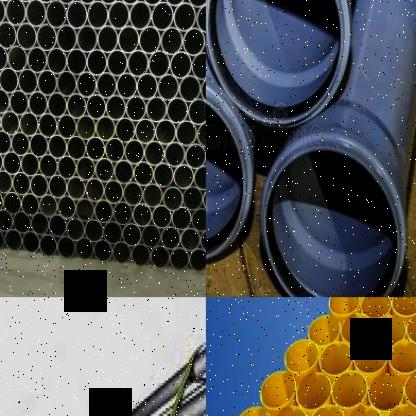pipe: (260, 135, 405, 297), (205, 0, 349, 126), (206, 83, 252, 263), (260, 372, 296, 410), (368, 373, 404, 410), (332, 370, 367, 408), (296, 372, 331, 410), (319, 342, 354, 376), (285, 338, 318, 373), (354, 340, 388, 373), (373, 316, 407, 348), (308, 315, 341, 346), (340, 314, 374, 344), (388, 340, 416, 372), (151, 1, 174, 31), (182, 27, 205, 56), (173, 2, 196, 31), (117, 25, 140, 54), (129, 0, 151, 30), (160, 27, 183, 55), (138, 26, 161, 54), (360, 297, 392, 317), (66, 0, 88, 29), (76, 24, 98, 53), (178, 75, 201, 102), (157, 73, 179, 101), (108, 1, 130, 29), (136, 72, 158, 100), (87, 0, 108, 29), (97, 24, 118, 53), (328, 297, 360, 316), (183, 143, 206, 169), (166, 97, 188, 124), (116, 72, 138, 99), (148, 50, 170, 77), (170, 51, 192, 78), (57, 24, 78, 52), (86, 48, 107, 76), (127, 49, 148, 77), (46, 0, 66, 29), (134, 118, 156, 144), (175, 120, 197, 146), (114, 117, 136, 143), (16, 22, 37, 49), (155, 118, 176, 145), (8, 89, 29, 116), (107, 49, 128, 76), (36, 23, 56, 51), (94, 157, 115, 183), (113, 159, 134, 185), (124, 139, 145, 165), (144, 140, 165, 166), (162, 185, 183, 211), (104, 137, 125, 163), (66, 48, 87, 74), (96, 72, 117, 98), (153, 162, 174, 188), (27, 46, 47, 73), (8, 45, 28, 72), (106, 94, 126, 121), (66, 92, 86, 119), (56, 70, 76, 97), (146, 96, 166, 123), (26, 0, 46, 27), (46, 47, 66, 74), (130, 242, 151, 267), (103, 179, 124, 204), (4, 0, 25, 25), (86, 94, 107, 119), (142, 183, 163, 208), (173, 164, 194, 189), (76, 72, 97, 97), (171, 206, 192, 231), (121, 222, 142, 247), (164, 142, 185, 167), (133, 161, 154, 186), (182, 186, 203, 211), (160, 225, 181, 250), (151, 204, 172, 229), (38, 112, 58, 138), (37, 69, 57, 95), (126, 95, 146, 121), (18, 68, 38, 94), (20, 192, 40, 217), (28, 91, 48, 116), (57, 114, 77, 139), (47, 92, 67, 117), (96, 116, 116, 141), (180, 227, 200, 252), (76, 115, 96, 140), (122, 181, 142, 206), (66, 135, 86, 160), (75, 197, 95, 222), (76, 156, 96, 181), (85, 136, 105, 161), (391, 297, 416, 317), (19, 111, 38, 137), (29, 132, 48, 158), (187, 98, 206, 124), (0, 20, 17, 49), (30, 212, 50, 236), (84, 178, 104, 202), (132, 203, 152, 227), (140, 224, 160, 248), (94, 199, 114, 223), (66, 176, 86, 200), (102, 220, 122, 244), (57, 234, 76, 259), (1, 110, 20, 135), (57, 195, 76, 220), (66, 216, 85, 241), (48, 134, 67, 159), (20, 152, 39, 177), (0, 67, 18, 93), (58, 154, 76, 180), (112, 241, 132, 264), (150, 245, 170, 268), (170, 247, 190, 270), (84, 219, 104, 242), (48, 214, 67, 238), (11, 132, 30, 156), (2, 151, 21, 175), (48, 175, 67, 199), (30, 173, 49, 197), (39, 154, 58, 178), (113, 201, 132, 225), (307, 404, 345, 416), (404, 370, 416, 408), (40, 232, 58, 257), (12, 171, 30, 196), (39, 194, 58, 217), (3, 191, 22, 214), (75, 237, 94, 260), (191, 51, 206, 80), (22, 230, 40, 254), (12, 211, 31, 233), (345, 405, 383, 416), (94, 239, 112, 262), (5, 228, 22, 252), (189, 247, 206, 271), (270, 405, 306, 416), (190, 207, 206, 231), (233, 406, 270, 416), (383, 405, 416, 416), (193, 164, 206, 190), (195, 2, 206, 32), (0, 209, 14, 232), (406, 313, 416, 344), (0, 170, 12, 194), (0, 129, 11, 154), (0, 88, 10, 114), (196, 121, 206, 147), (199, 75, 206, 103), (0, 43, 7, 70), (199, 227, 206, 253), (0, 0, 5, 24), (186, 0, 206, 6), (163, 0, 186, 5), (141, 0, 163, 5), (202, 186, 206, 212), (0, 227, 4, 249), (0, 149, 3, 173), (0, 189, 3, 212)
